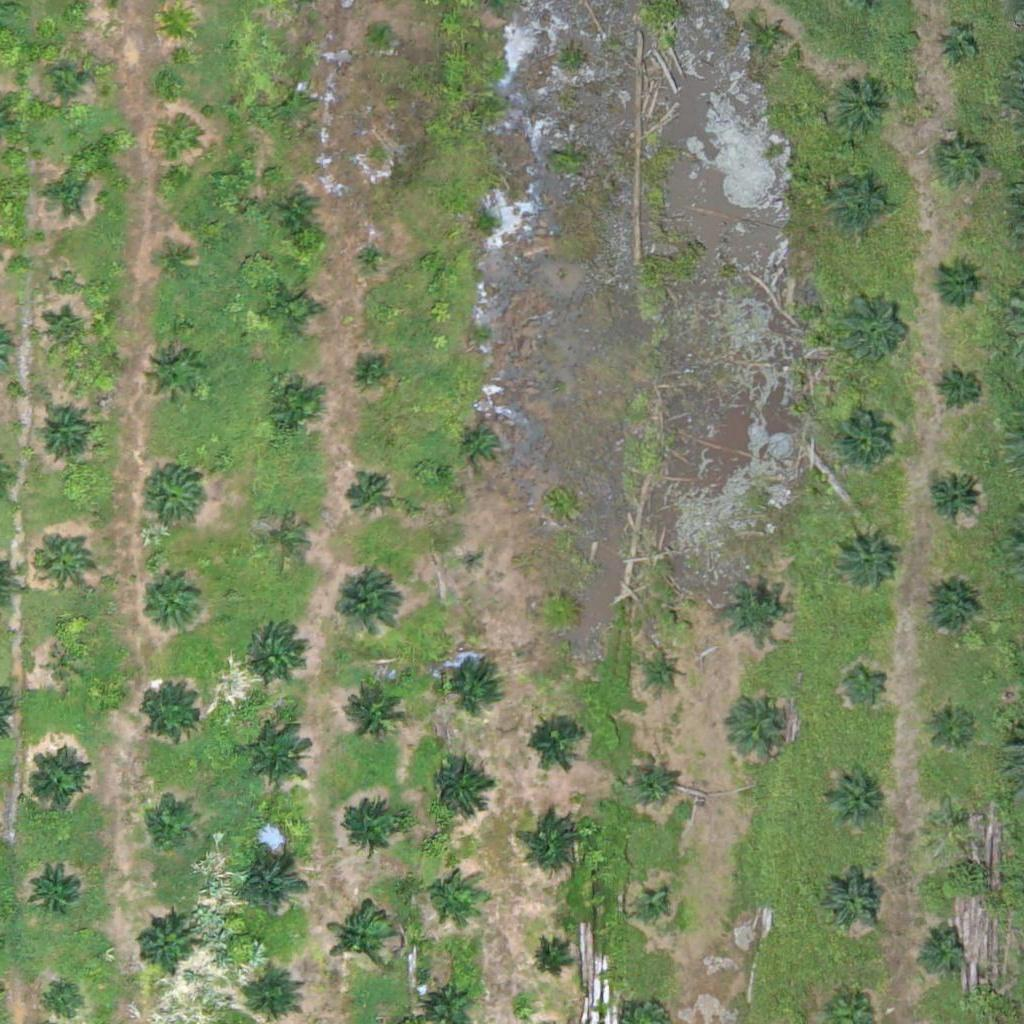Kelapa_Sawit: (334, 800, 409, 876), (237, 719, 312, 795), (330, 572, 405, 648), (338, 674, 413, 750), (326, 902, 401, 978), (235, 851, 310, 926), (837, 289, 912, 364), (735, 693, 798, 756), (724, 577, 787, 640), (439, 649, 502, 712), (24, 751, 87, 814), (29, 858, 92, 921), (135, 917, 198, 980), (833, 416, 896, 479), (822, 765, 885, 828), (822, 870, 885, 933), (923, 466, 986, 529), (525, 811, 587, 874), (32, 401, 94, 464), (524, 711, 586, 774), (142, 681, 204, 744), (428, 757, 491, 819), (245, 623, 307, 686), (142, 345, 204, 408), (262, 378, 324, 441), (140, 465, 202, 528), (144, 576, 206, 639), (34, 530, 96, 593), (833, 76, 895, 139), (832, 173, 894, 236), (834, 527, 896, 590), (920, 578, 982, 641), (261, 279, 323, 342), (37, 167, 87, 218), (935, 133, 985, 184), (926, 695, 976, 746), (925, 792, 975, 843), (915, 921, 965, 972), (841, 657, 891, 708), (931, 257, 981, 308), (343, 471, 393, 522), (424, 866, 474, 916), (143, 799, 193, 849), (627, 755, 677, 805), (258, 516, 308, 566), (935, 365, 985, 415), (457, 419, 507, 469), (38, 310, 88, 360), (42, 61, 92, 111), (644, 653, 682, 691), (634, 891, 672, 929), (754, 19, 792, 57), (157, 4, 195, 42), (937, 28, 975, 66), (541, 593, 579, 631), (355, 241, 393, 279), (279, 193, 317, 231), (159, 126, 197, 164), (158, 246, 196, 284), (275, 84, 313, 122), (529, 942, 566, 980), (48, 647, 85, 685), (357, 357, 382, 383), (369, 18, 394, 43), (461, 547, 486, 572)
